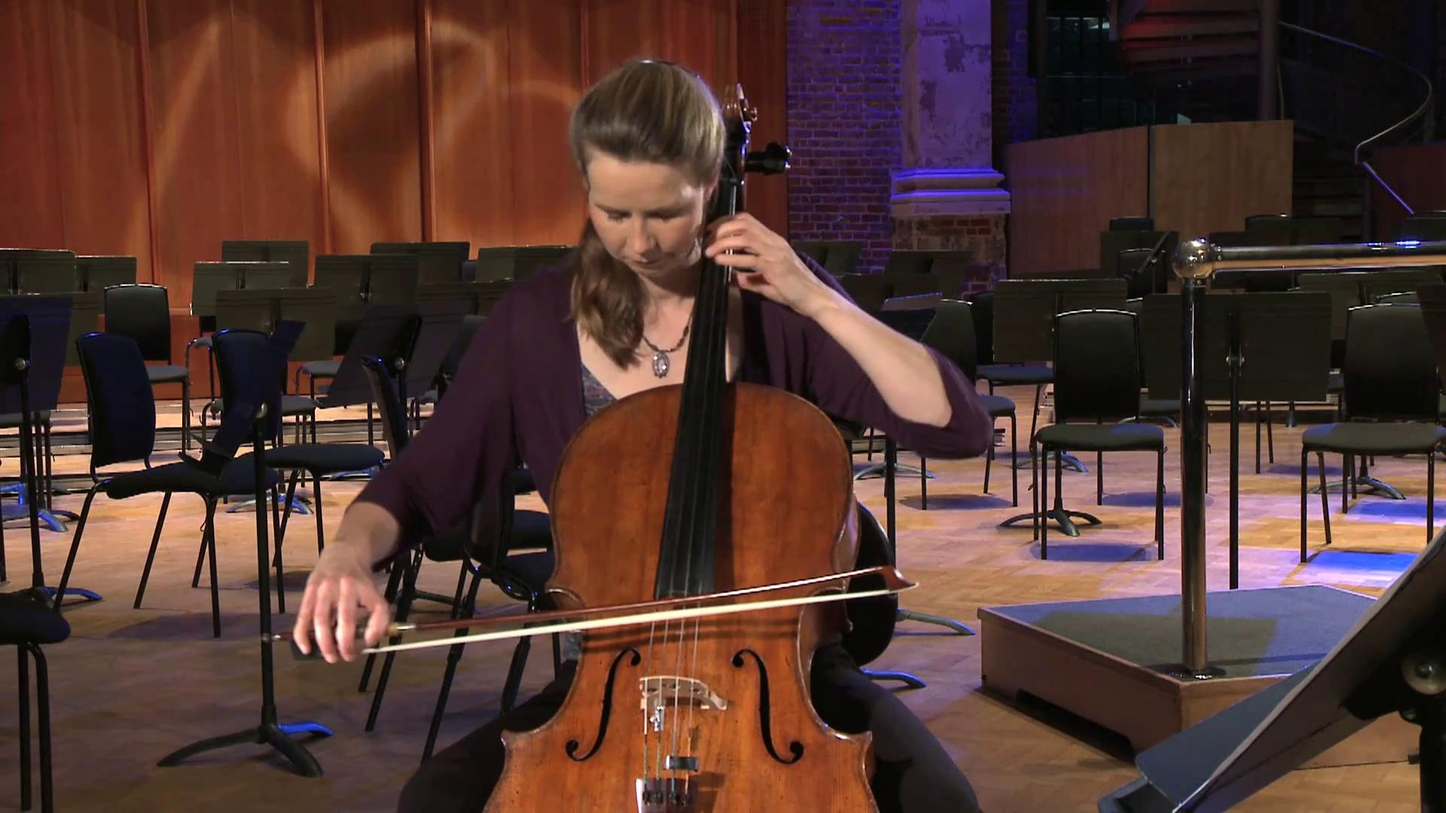victim: (289, 45, 993, 812)
